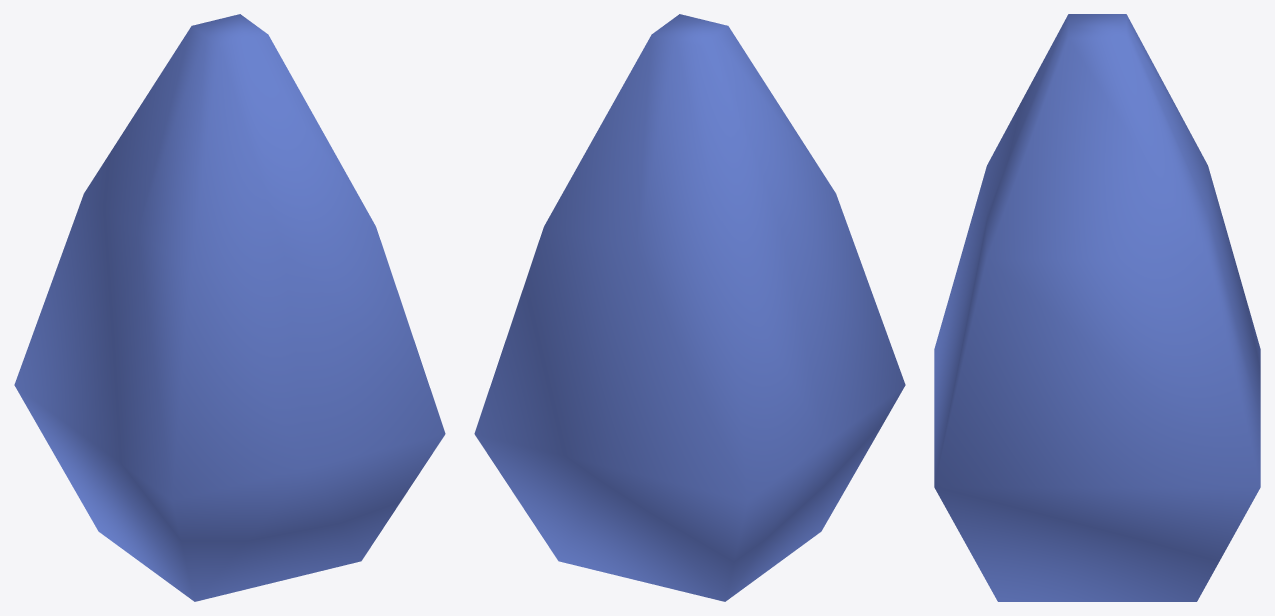
File: raindrop.glb
3 renders of one model, left to right at view 1: azimuth 30°, elevation 25°; view 2: azimuth 150°, elevation 25°; view 3: azimuth 270°, elevation 25°, orthographic. The views are drawn at different scales.
Parts seen in each view (by area): view 1: Cube; view 2: Cube; view 3: Cube.
Part boxes in pixels (box(x1,y1,x2,y2)): Cube: box(14, 14, 445, 601); Cube: box(474, 14, 905, 601); Cube: box(934, 14, 1260, 601).
Bounding box in the file's own units: 1.97 × 3.55 × 1.97.
